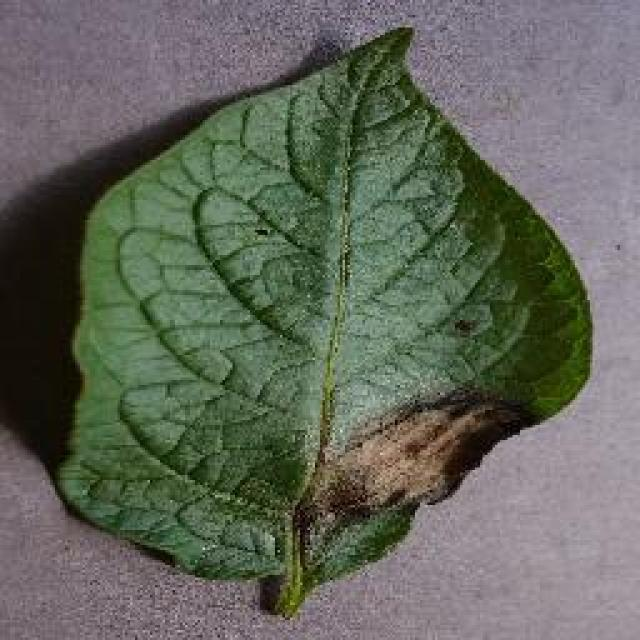Potato: (50, 22, 592, 618)
